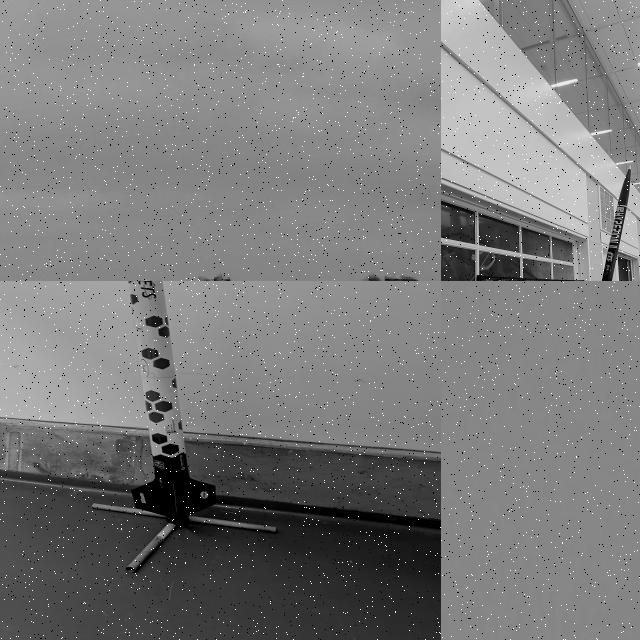Rocket: (128, 281, 216, 523), (602, 164, 632, 281)
